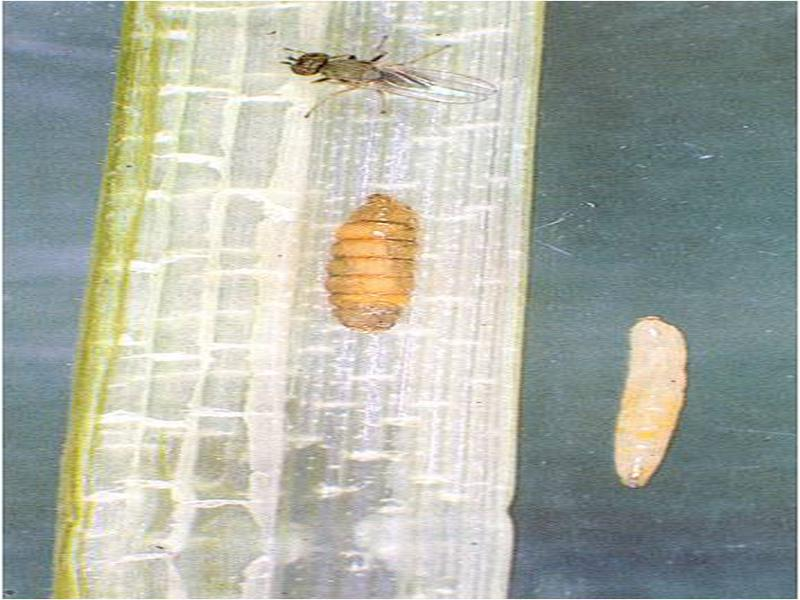Whorl_maggot: (277, 31, 502, 122), (609, 309, 701, 497), (317, 187, 426, 341)
